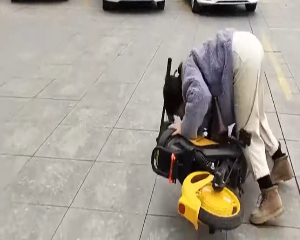fall: (142, 23, 300, 234)
